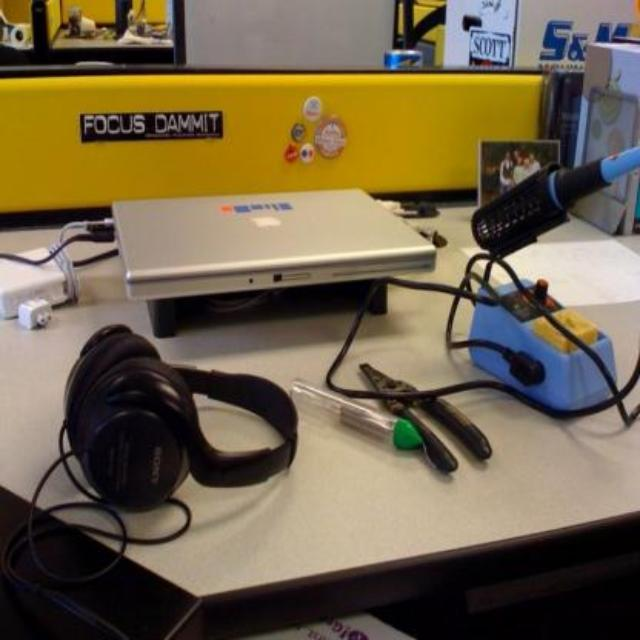Laptop: (116, 171, 436, 301)
